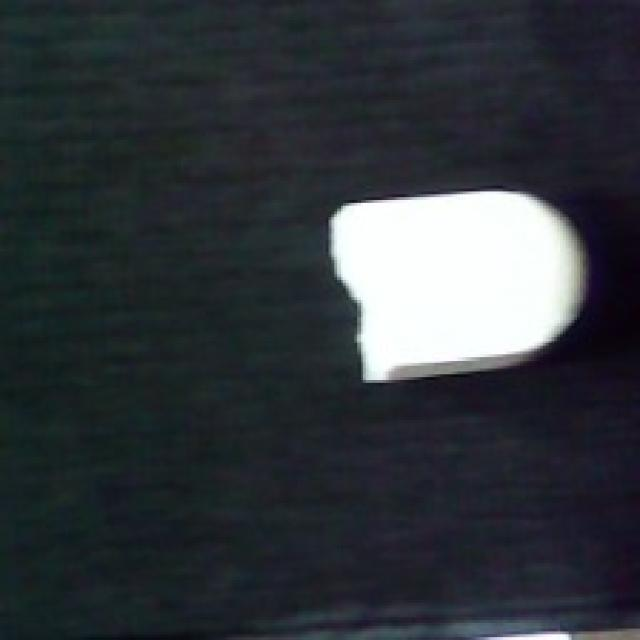defected: (323, 174, 594, 386)
